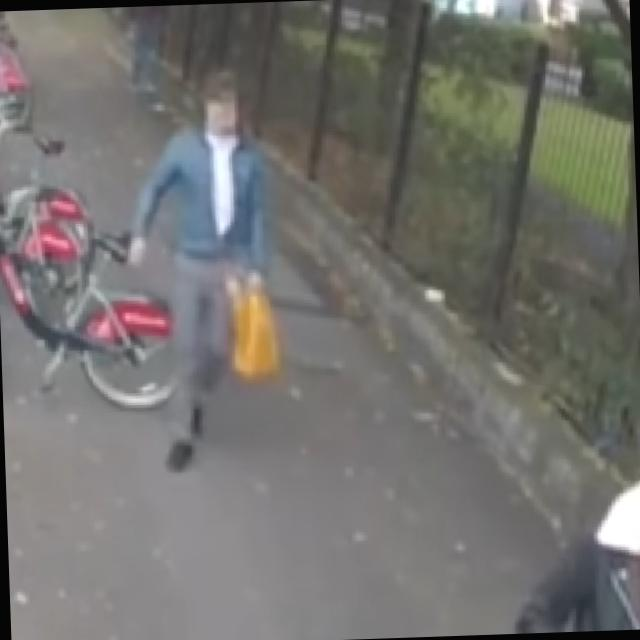person: (118, 70, 280, 470), (508, 477, 640, 633), (122, 7, 175, 114)
